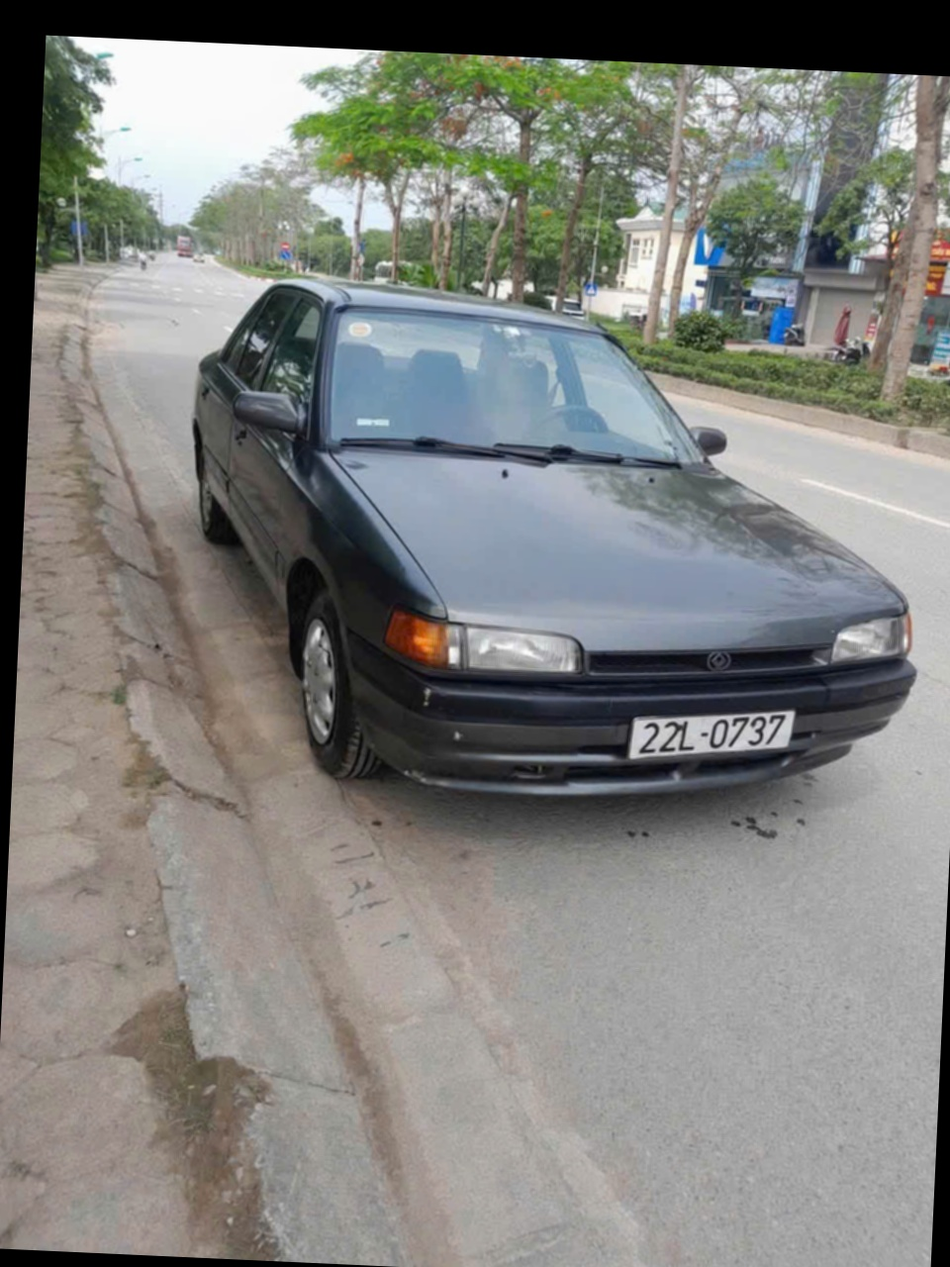Bien-so: (633, 656, 802, 721)
